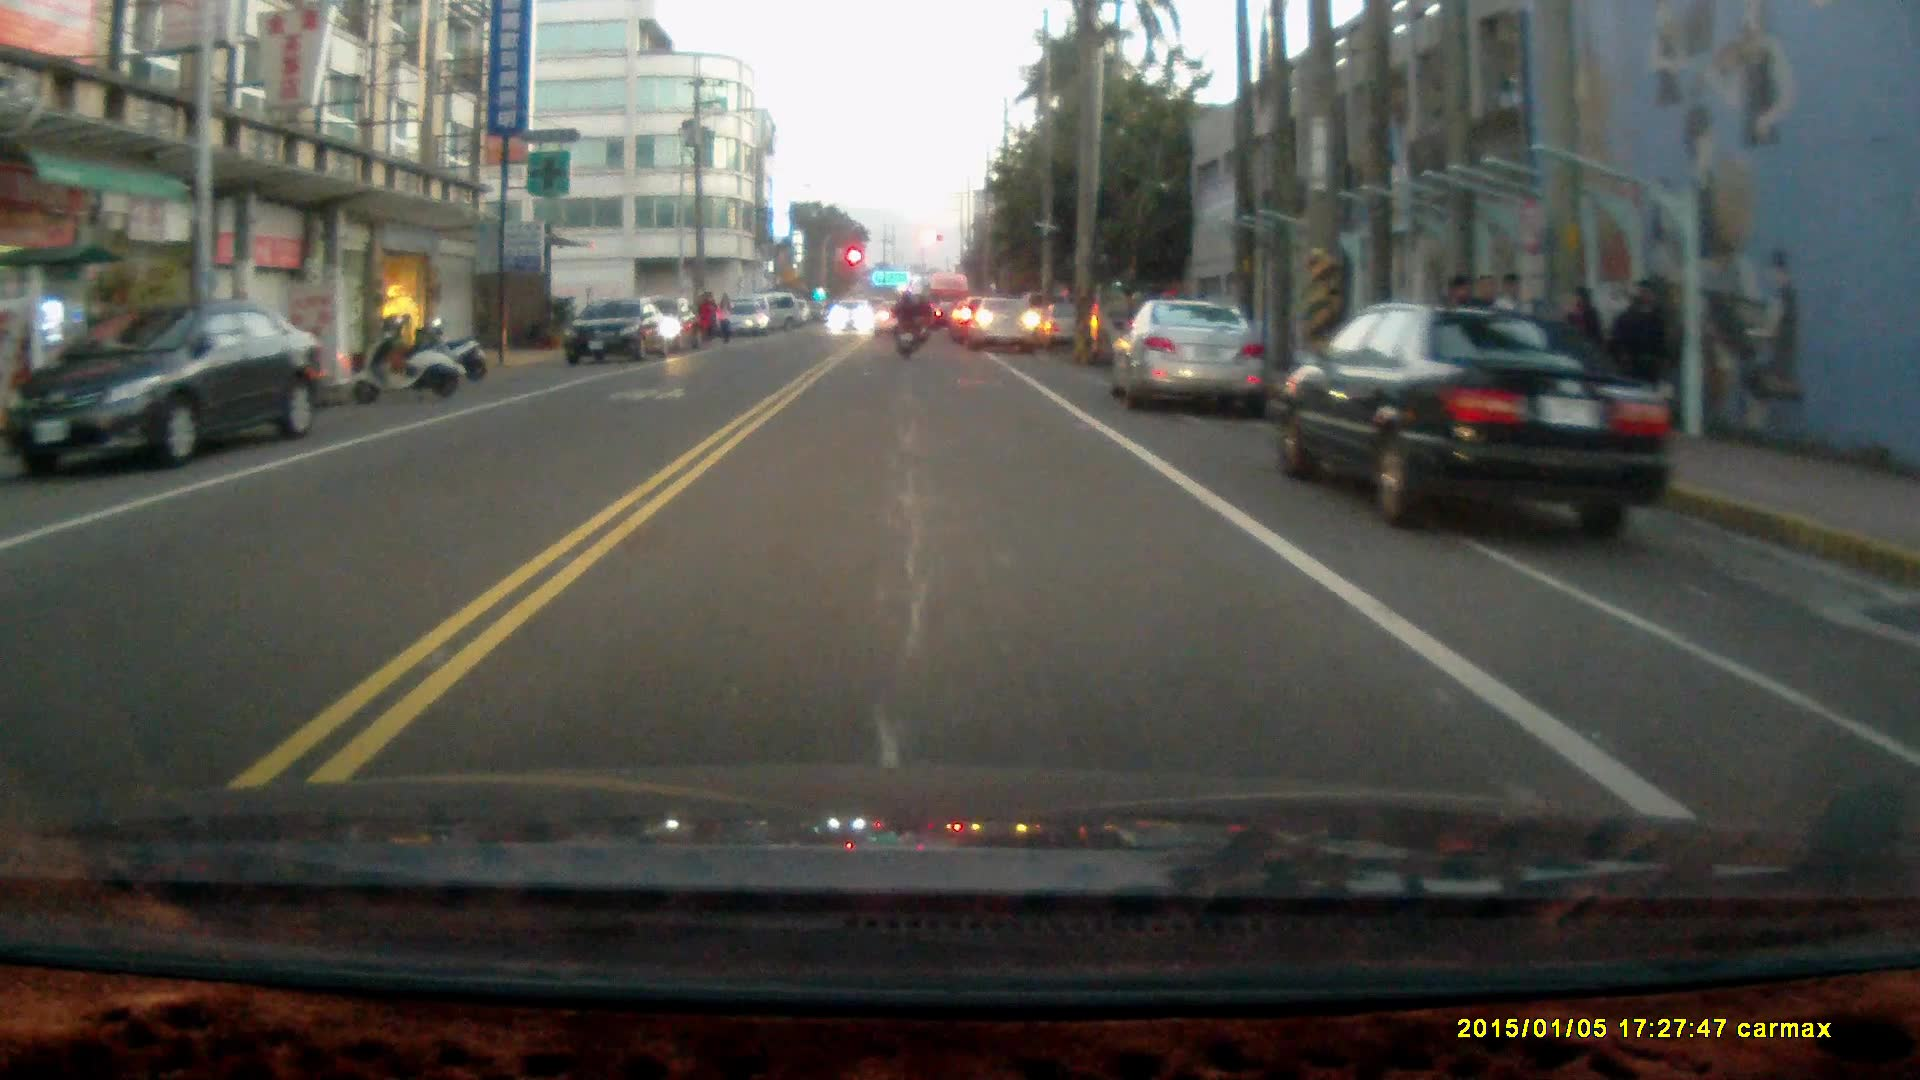pedestrian: (1615, 274, 1676, 421)
rider: (889, 284, 922, 360)
vehicle: (1268, 298, 1683, 536), (21, 303, 311, 470), (1113, 297, 1269, 413), (564, 299, 676, 368), (972, 297, 1040, 350)
